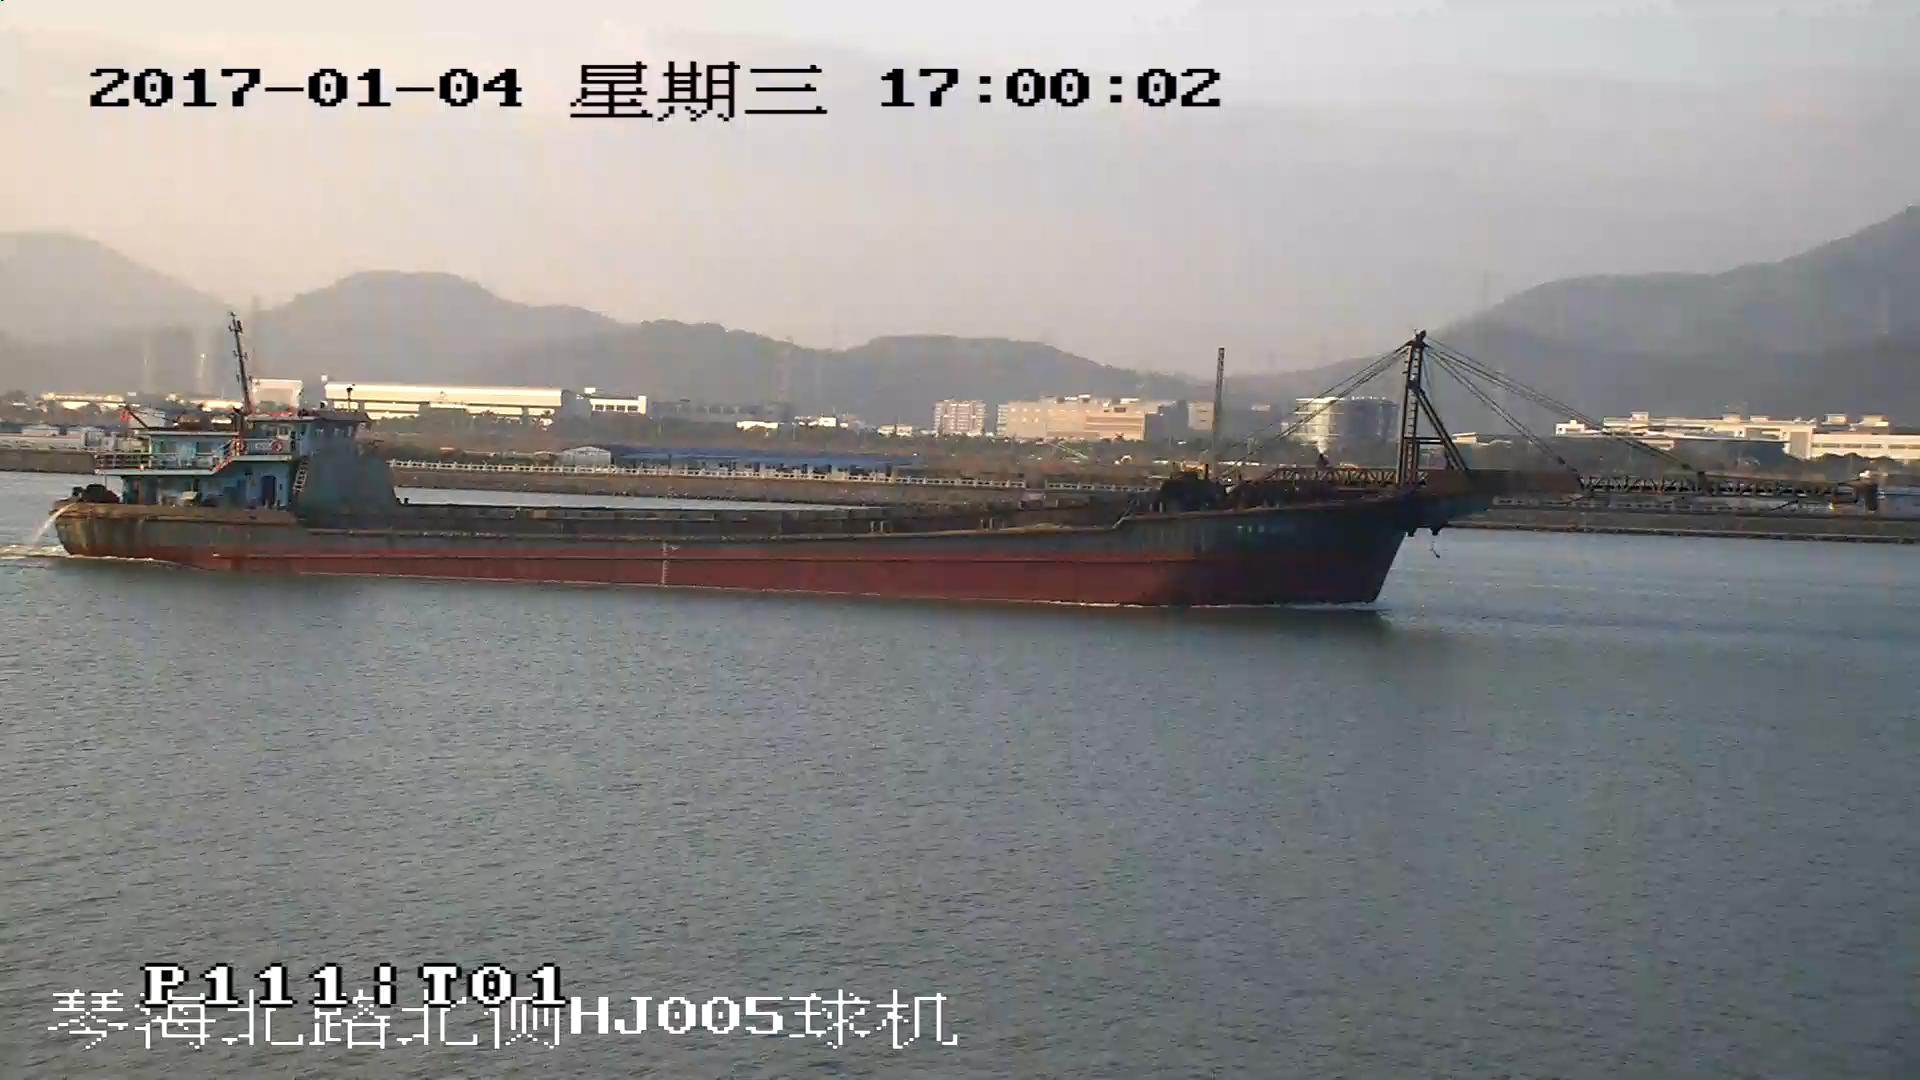bulk cargo carrier: (54, 335, 1841, 608)
